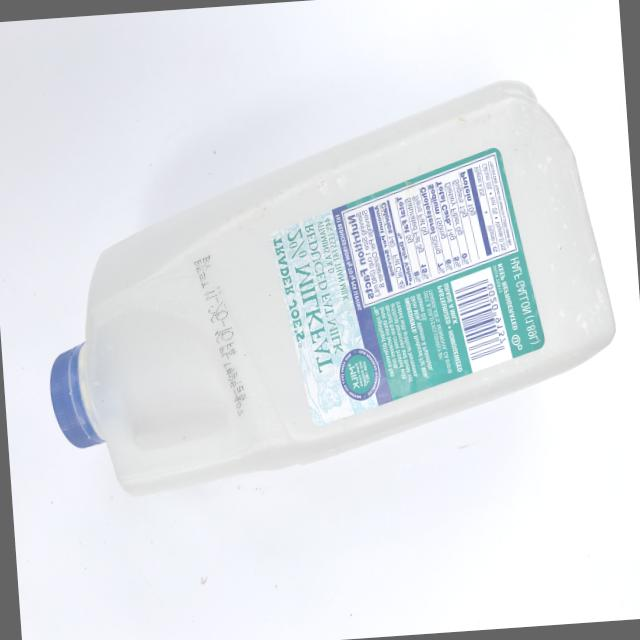Plastic: (0, 62, 637, 617)
